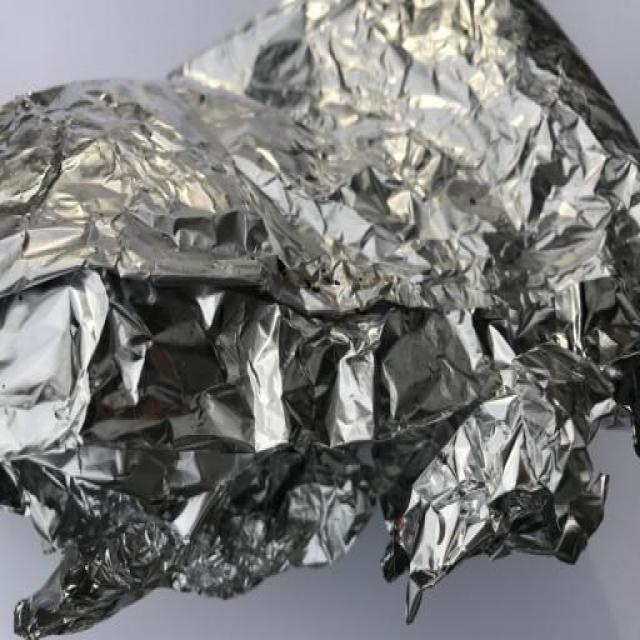others: (1, 8, 640, 636)
